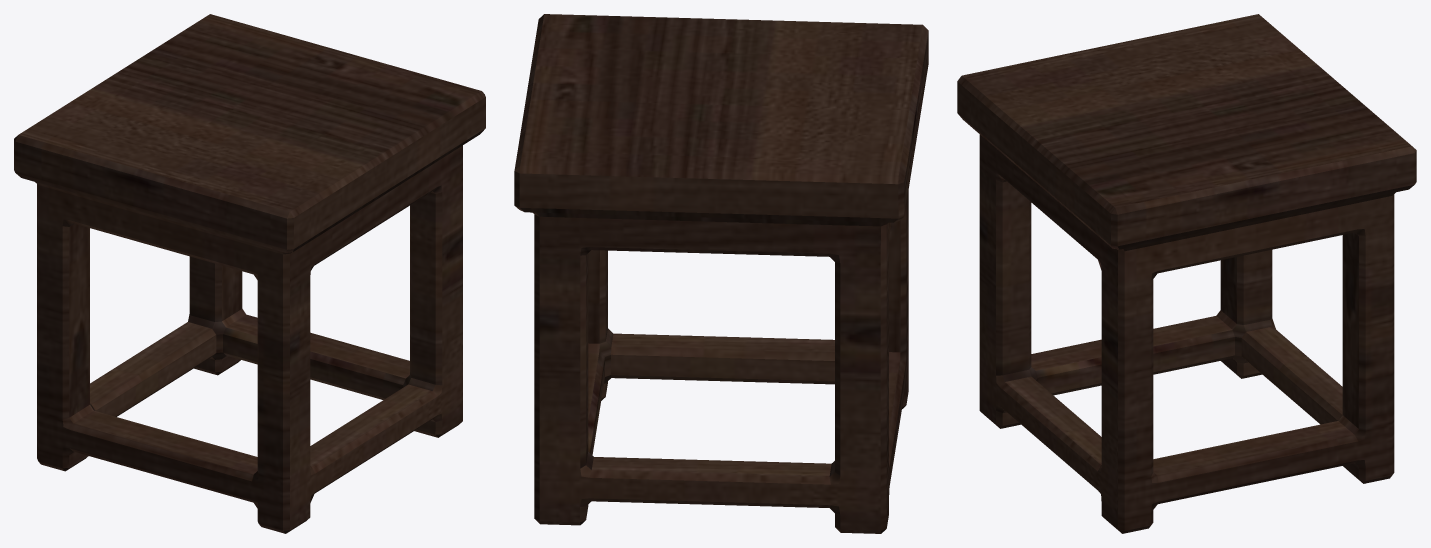
File: Chair.fbx
3 views of the same model, side by side, from view 1: azimuth 30°, elevation 25°; view 2: azimuth 150°, elevation 25°; view 3: azimuth 270°, elevation 25° (orthographic). The views are drawn at different scales.
Visible parts, largest first — view 1: pasted__pCube150; view 2: pasted__pCube150; view 3: pasted__pCube150.
Part boxes in pixels (x1,y1,x2,y2): pasted__pCube150: (14, 14, 485, 533); pasted__pCube150: (514, 14, 928, 533); pasted__pCube150: (957, 14, 1416, 533).
Size of the model in its own units: 53.31 by 42.19 by 52.34.
